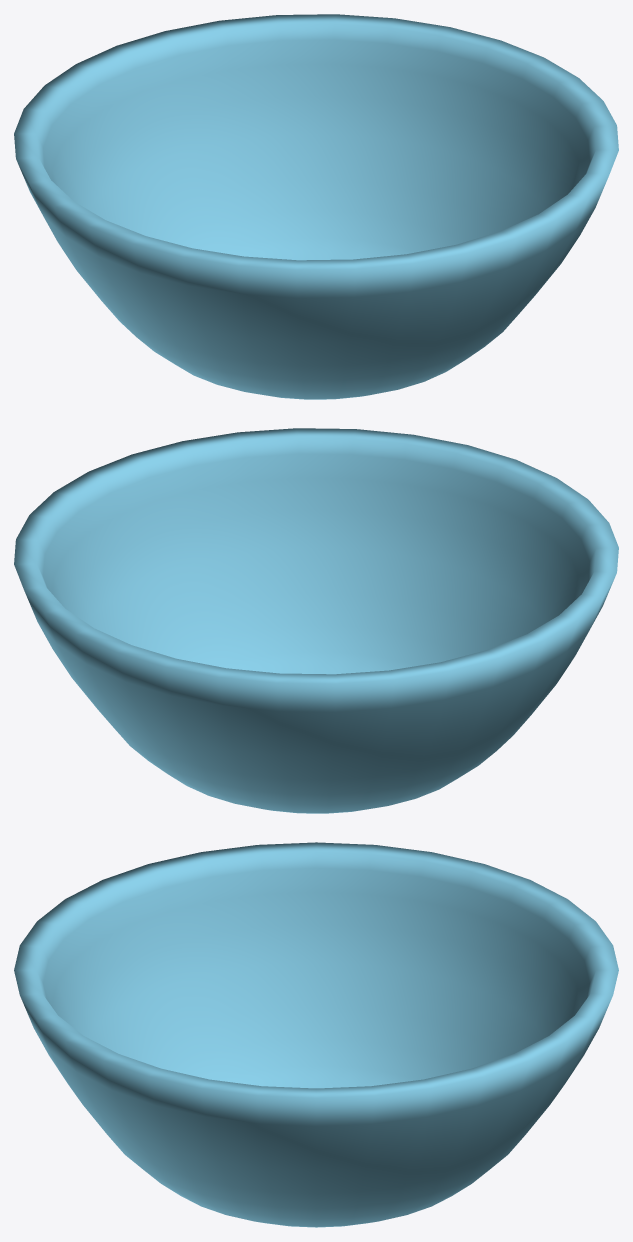
File: Mangkok.fbx
3 renders of one model, top to bottom at view 1: azimuth 30°, elevation 25°; view 2: azimuth 150°, elevation 25°; view 3: azimuth 270°, elevation 25°, orthographic.
Visible parts, largest first — view 1: Mangkok.019; view 2: Mangkok.019; view 3: Mangkok.019.
Part boxes in pixels (left/top/right/bottom): Mangkok.019: left=14, top=14, right=618, bottom=399; Mangkok.019: left=14, top=428, right=618, bottom=813; Mangkok.019: left=14, top=842, right=618, bottom=1227.
Size of the model in its own units: 393 by 144 by 393.
